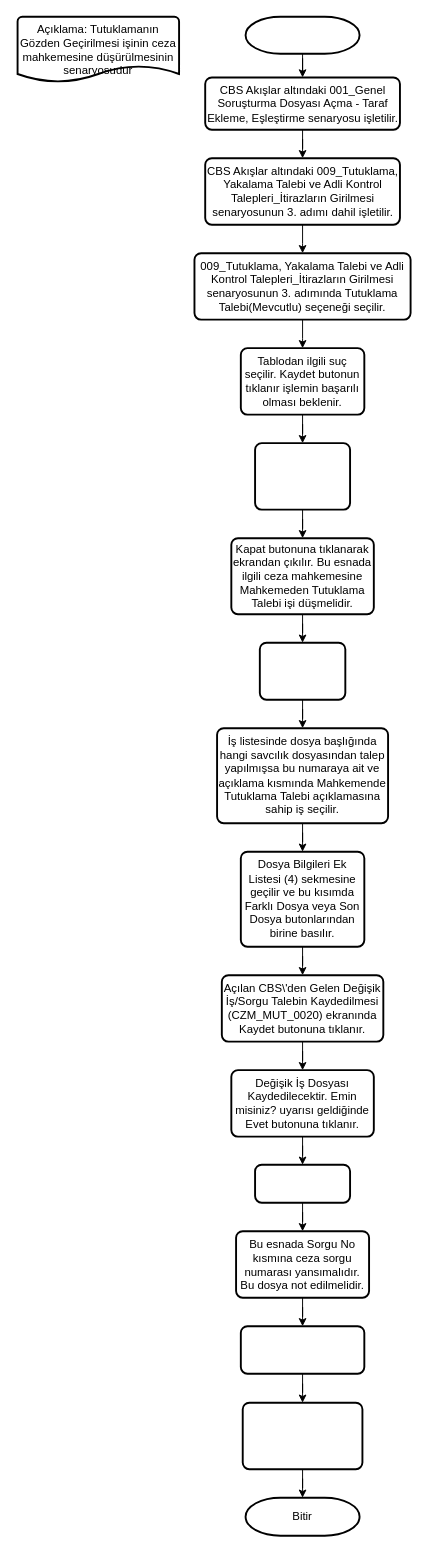
This 428x1553 diagram has some shape labels left out. The centre of each missing label's shape, as x and y in pixels:
"Başla" goes at pixel 302 34.
"Evrak Kaydetme işlemi tamamlandı uyarısı geldiğinde Tamam butonuna tıklanır" goes at pixel 302 1435.
"Evrakı Onayla butonuna tıklanır ve işlemin başarılı olması beklenir." goes at pixel 302 476.
"İlgili ceza mahkemesinde Katip rolüne geçilir." goes at pixel 302 670.
"İşlemin başarılı olması beklenir." goes at pixel 302 1183.
"Tamam butonuna tıklanır ve Ardından Kapat butonuna tıklanır." goes at pixel 302 1349.
